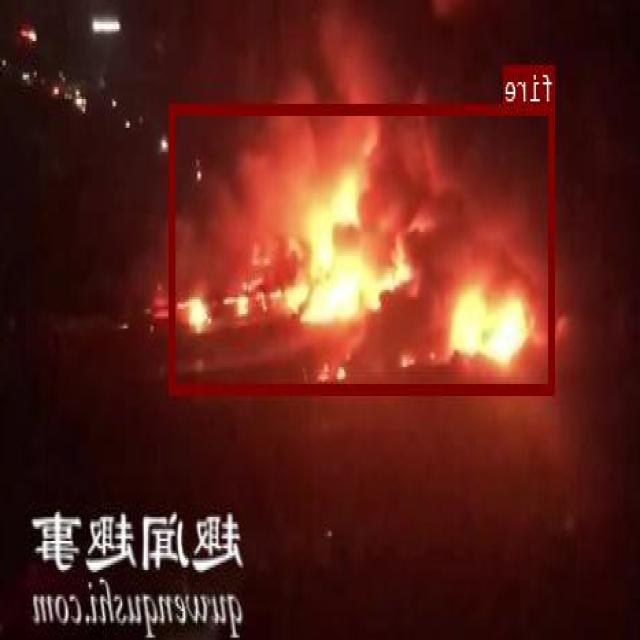fire: (171, 102, 556, 394)
